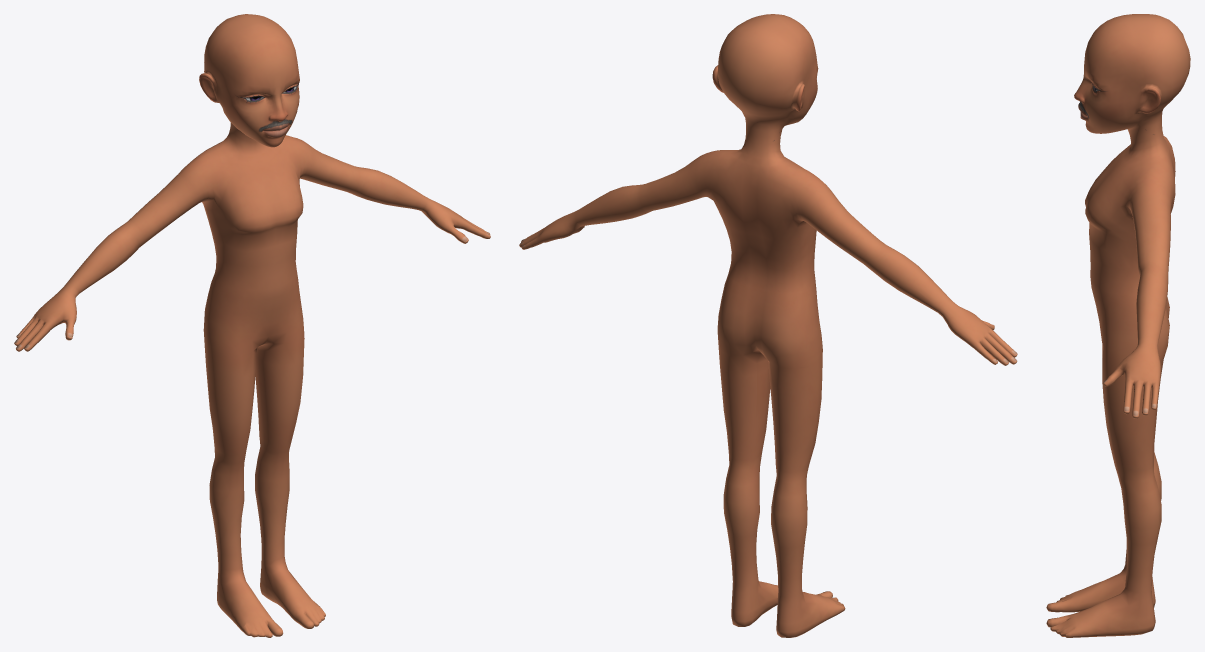
File: frame_0098.glb
3 views of the same model, side by side, from view 1: azimuth 30°, elevation 25°; view 2: azimuth 150°, elevation 25°; view 3: azimuth 270°, elevation 25° (orthographic). The views are drawn at different scales.
Visible parts, largest first — view 1: frame_0098_head_geo; view 2: frame_0098_head_geo; view 3: frame_0098_head_geo.
Boxes of the visible parts, x1,y1,x2,y2 form: frame_0098_head_geo: (14,14,490,637); frame_0098_head_geo: (519,14,1017,637); frame_0098_head_geo: (1046,14,1190,637).
Bounding box in the file's own units: 1.28 × 1.5 × 0.3253.
Materials: 3 (3 with a texture image).
